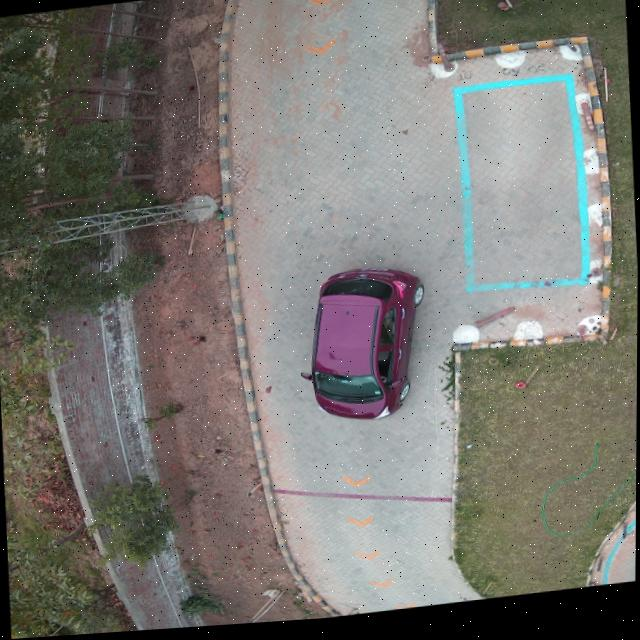car: (302, 273, 424, 424)
